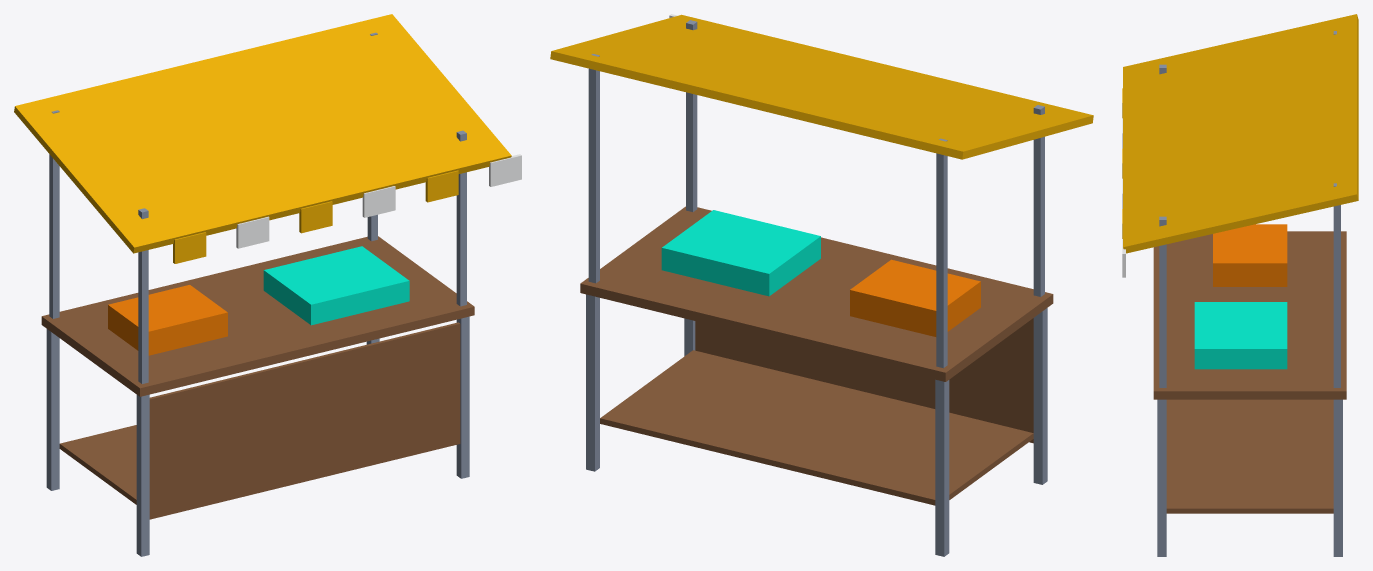
Rendered from stage_chodem_kiosk_vang.fbx.
3 renders of one model, left to right at view 1: azimuth 30°, elevation 25°; view 2: azimuth 150°, elevation 25°; view 3: azimuth 270°, elevation 25°, orthographic. The views are drawn at different scales.
Visible parts, largest first — view 1: stage_chodem_kiosk_vang; view 2: stage_chodem_kiosk_vang; view 3: stage_chodem_kiosk_vang.
Boxes of the visible parts, x1,y1,x2,y2 form: stage_chodem_kiosk_vang: (14, 14, 521, 556); stage_chodem_kiosk_vang: (550, 14, 1093, 556); stage_chodem_kiosk_vang: (1122, 14, 1358, 556).
Size of the model in its own units: 2.36 by 2.23 by 1.28.
